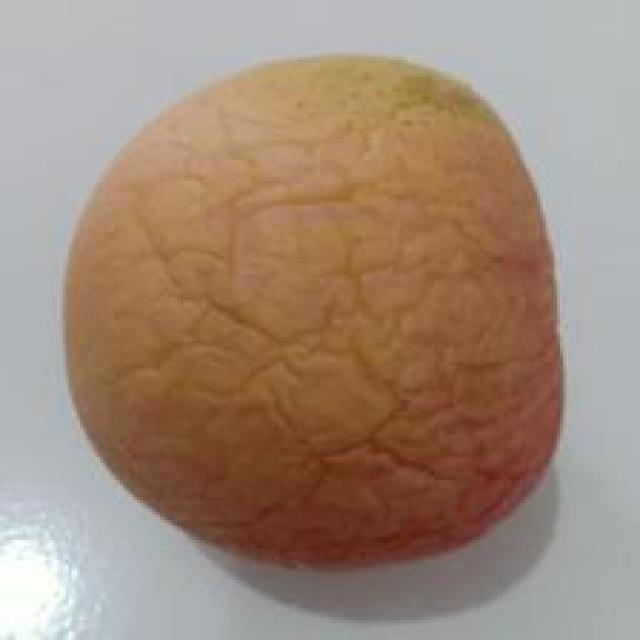rotten apple: (34, 21, 594, 640)
